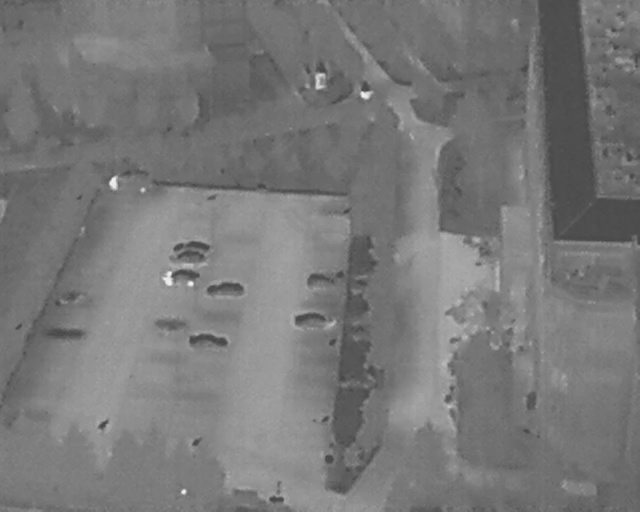Car: (293, 310, 336, 330), (161, 269, 200, 287), (188, 334, 228, 350), (206, 282, 245, 298), (168, 251, 207, 265), (173, 240, 211, 254), (306, 273, 335, 288)
